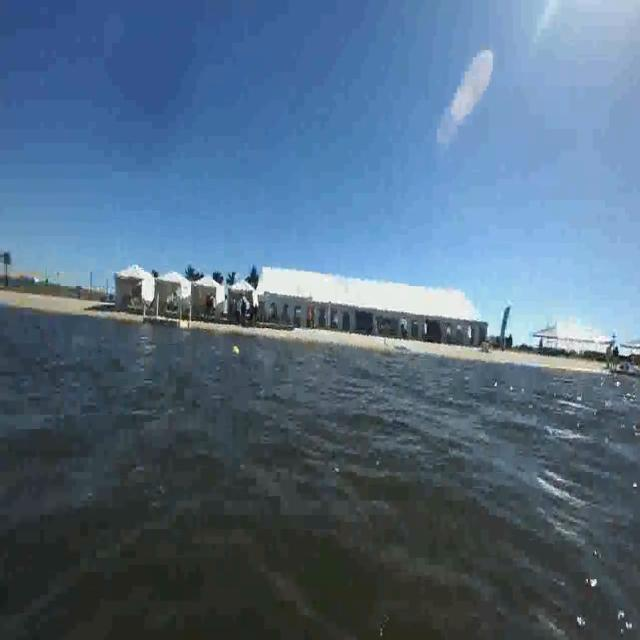yellow-buoy: (234, 344, 242, 357)
